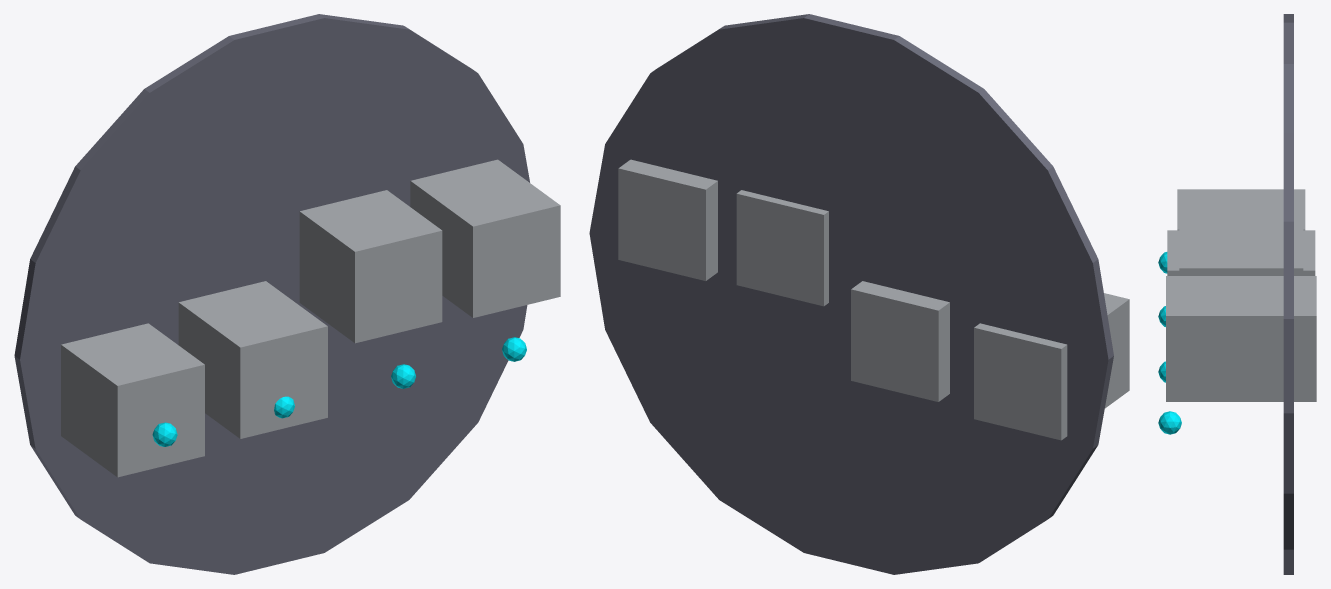
The model's file is 04_event_hazard_cluster.glb.
3 views of the same model, side by side, from view 1: azimuth 30°, elevation 25°; view 2: azimuth 150°, elevation 25°; view 3: azimuth 270°, elevation 25° (orthographic). The views are drawn at different scales.
Visible parts, largest first — view 1: scatter_base, tech_crate_2, tech_crate_0, tech_crate_1, tech_crate_3; view 2: scatter_base, tech_crate_0, tech_crate_3, tech_crate_1, tech_crate_2; view 3: tech_crate_3, scatter_base, tech_crate_2, tech_crate_0, tech_crate_1, status_light_3.
Part boxes in pixels (left/top/right/bottom): scatter_base: left=14, top=14, right=529, bottom=574; tech_crate_2: left=299, top=190, right=442, bottom=343; tech_crate_0: left=61, top=323, right=204, bottom=477; tech_crate_1: left=178, top=281, right=327, bottom=438; tech_crate_3: left=410, top=159, right=560, bottom=317; scatter_base: left=589, top=14, right=1113, bottom=574; tech_crate_0: left=974, top=293, right=1129, bottom=440; tech_crate_3: left=618, top=159, right=717, bottom=280; tech_crate_1: left=851, top=281, right=949, bottom=401; tech_crate_2: left=736, top=190, right=828, bottom=306; tech_crate_3: left=1166, top=276, right=1316, bottom=401; scatter_base: left=1283, top=14, right=1293, bottom=574; tech_crate_2: left=1179, top=228, right=1303, bottom=275; tech_crate_0: left=1177, top=189, right=1305, bottom=230; tech_crate_1: left=1167, top=230, right=1315, bottom=275; status_light_3: left=1158, top=411, right=1181, bottom=434.
Size of the model in its own units: 1.9 by 1.87 by 0.5345.
